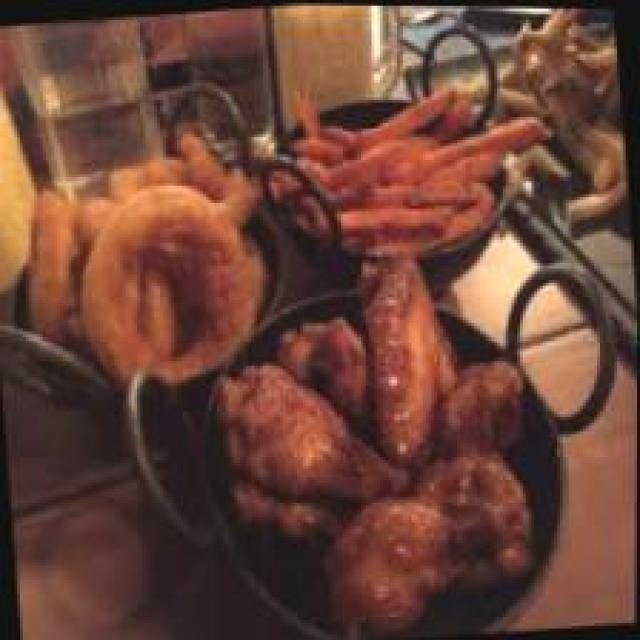Chicken Wings: (204, 237, 550, 640)
French Fries: (460, 4, 629, 244)
Onion Rings: (5, 113, 288, 396)
